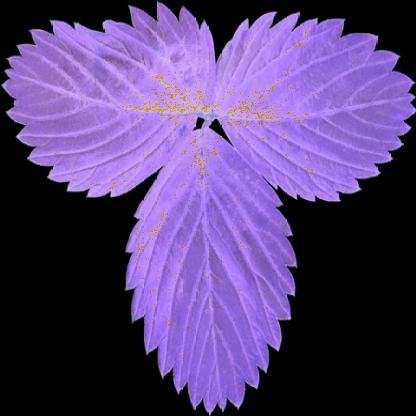Strawberry leaf: (122, 124, 305, 415), (1, 1, 214, 202), (215, 12, 415, 203)
